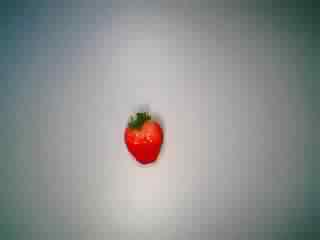strawberry: (106, 106, 172, 168)
